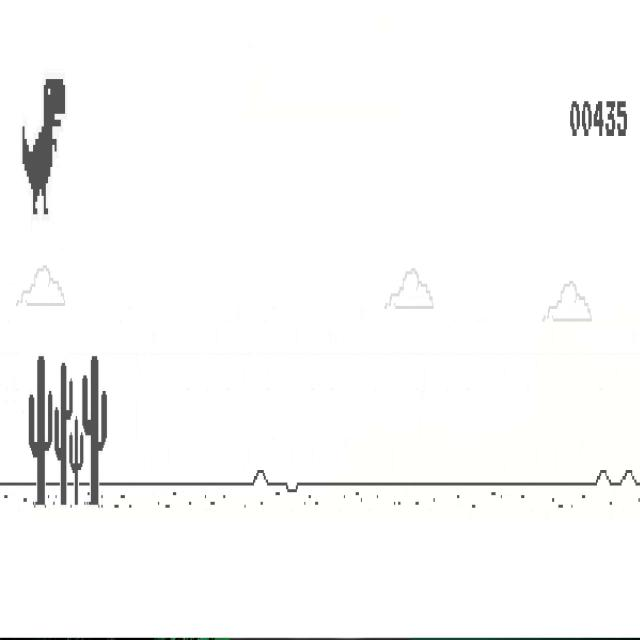cacto: (28, 353, 53, 507), (82, 353, 107, 506), (54, 361, 73, 506), (69, 416, 83, 506)
dino: (22, 77, 66, 217)
